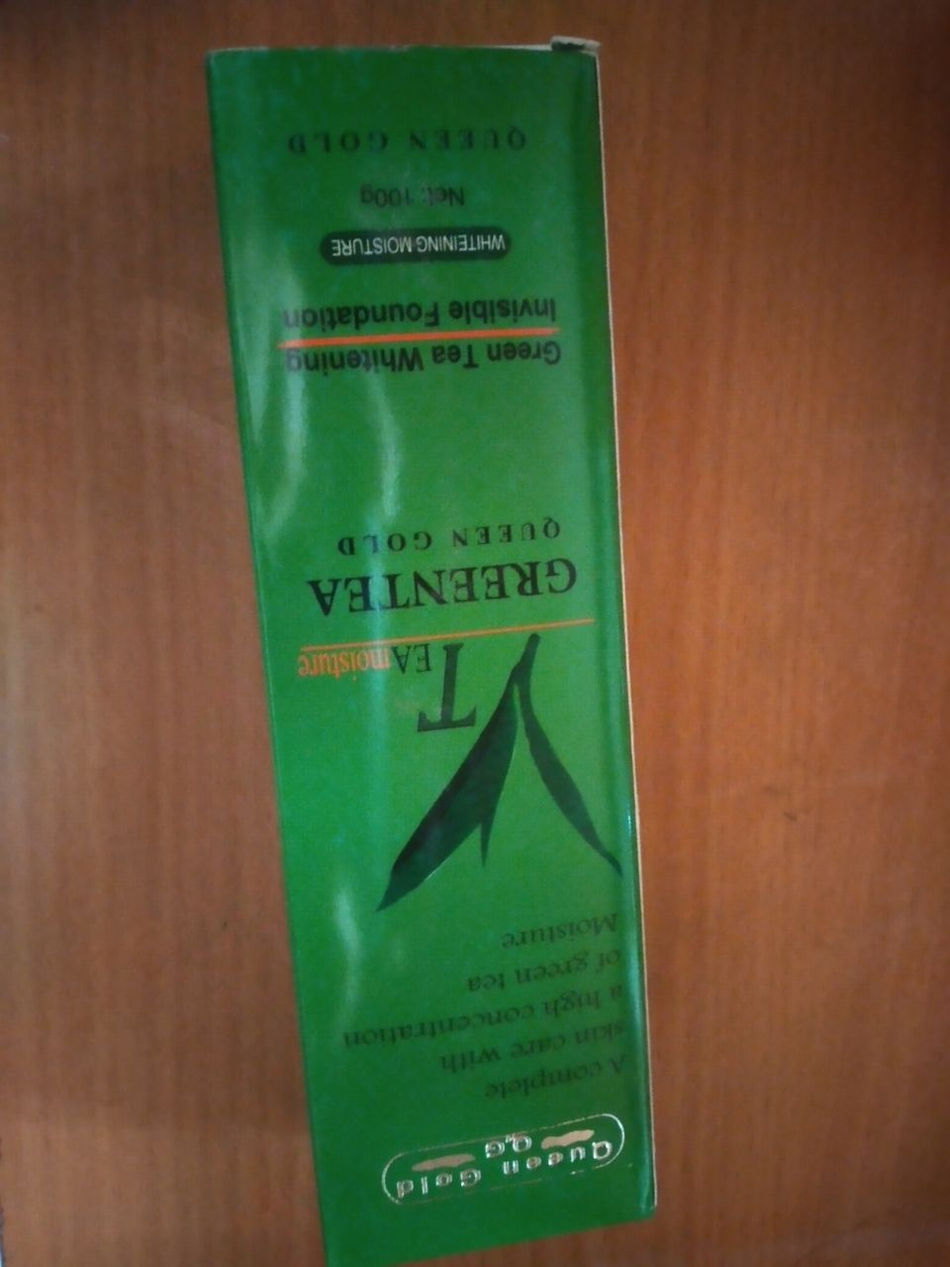Medicine: (198, 30, 686, 1267)
